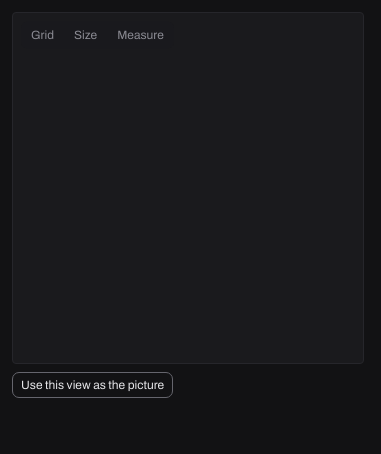
Test case: the view on screen can be kept as the picture, and a refusal says why
The image size is (381, 454).
Click the button "Use this view as the picture" at (93, 385), box [12,372,173,398]
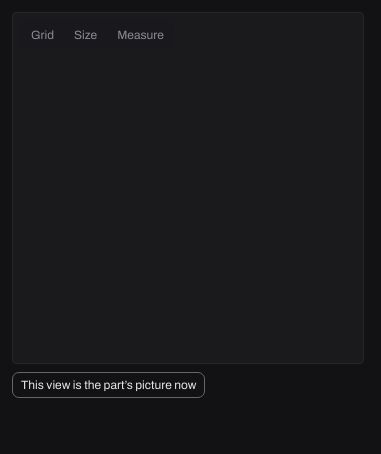
Expected: the button "This view is the part’s picture now" is shown
Click the button "This view is the part’s picture now" at (109, 385), box [12,372,206,398]
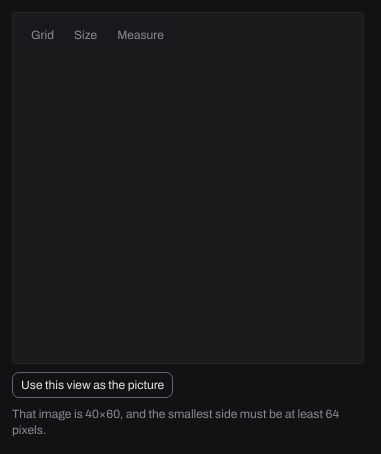
Expected: the message shows "at least 64 pixels", [12,407,339,437]
